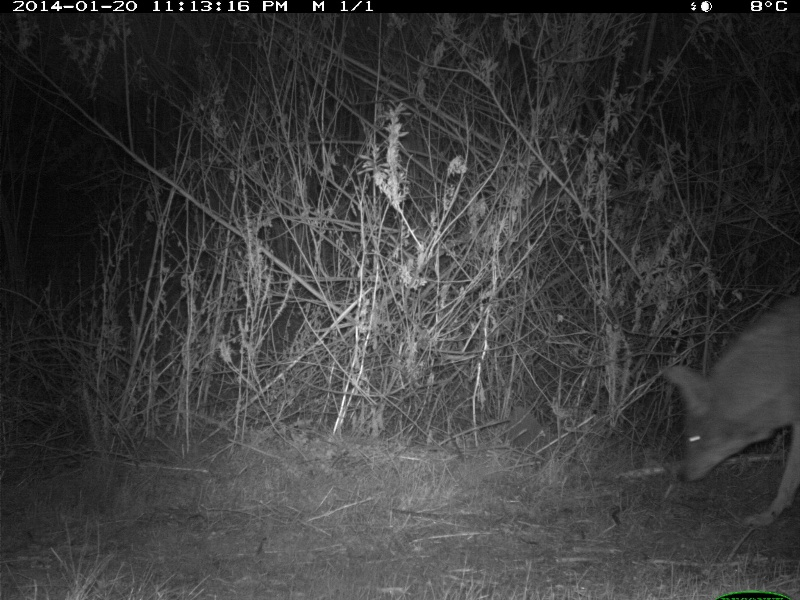coyote: (666, 291, 800, 533)
